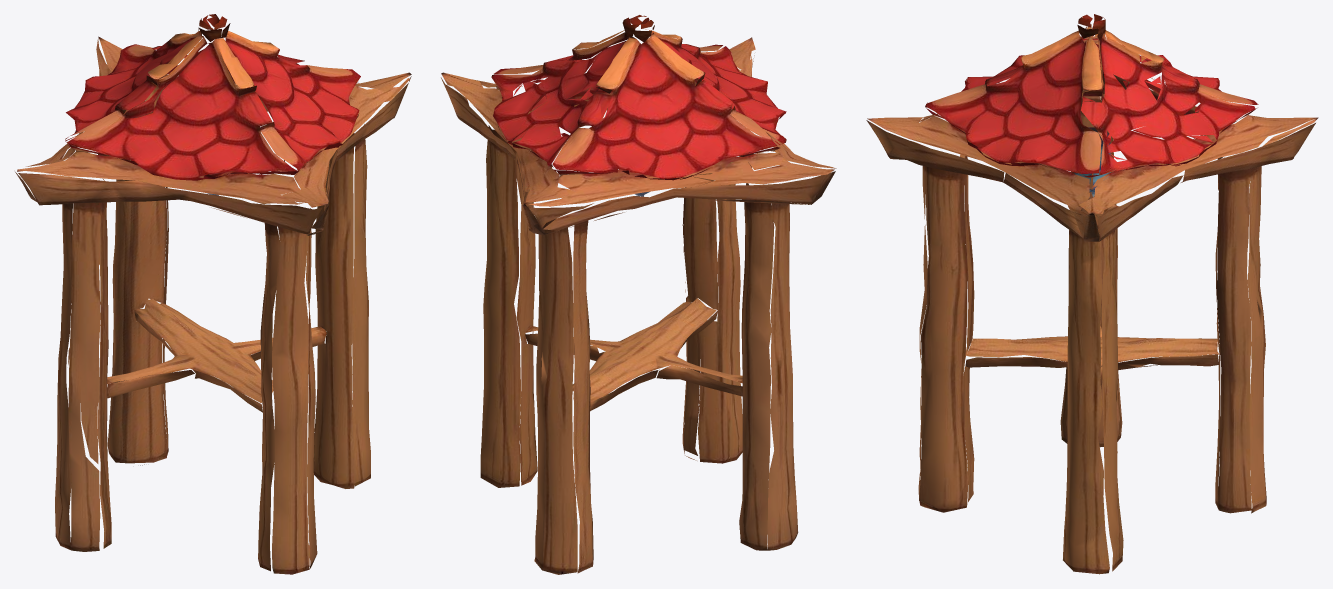
File: ses_cani_cerceve.glb
The picture shows the model from 3 angles, left to right: view 1: azimuth 30°, elevation 25°; view 2: azimuth 150°, elevation 25°; view 3: azimuth 270°, elevation 25°; orthographic projection.
Parts seen in each view (by area): view 1: geometry_0; view 2: geometry_0; view 3: geometry_0.
Part boxes in pixels (x1,y1,x2,y2): geometry_0: [15, 14, 411, 574]; geometry_0: [441, 15, 836, 574]; geometry_0: [866, 14, 1318, 574].
Bounding box in the file's own units: 0.8306 × 0.9876 × 0.8323.
1 material, 1 textured.
